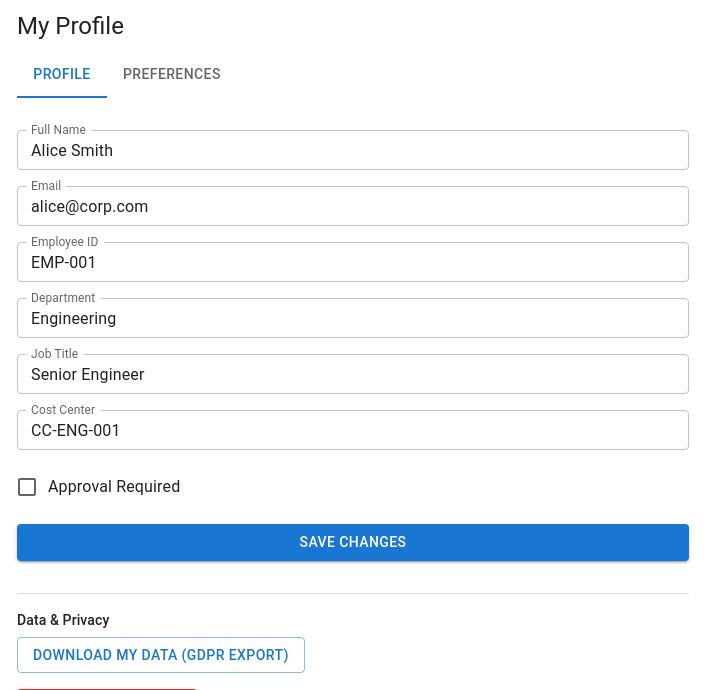
Test: ProfilePage › REQ-PROFILE-PAGE-S02: Preferences tab click shows PreferencesForm
The width and height of the screenshot is (707, 690).
Click the tab with test id "tab-preferences": (172,74) [107, 50, 237, 98]
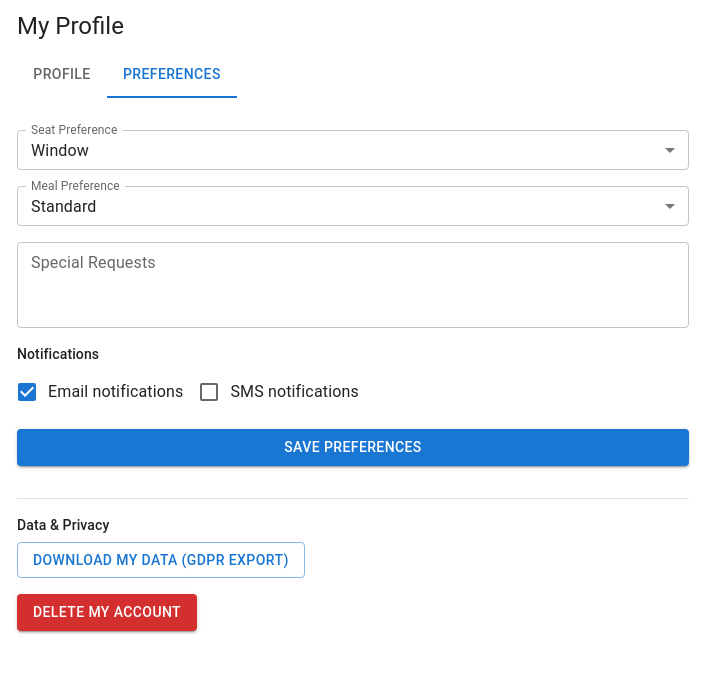
Expected: the form with test id "preferences-form" is shown, [17, 114, 689, 466]
